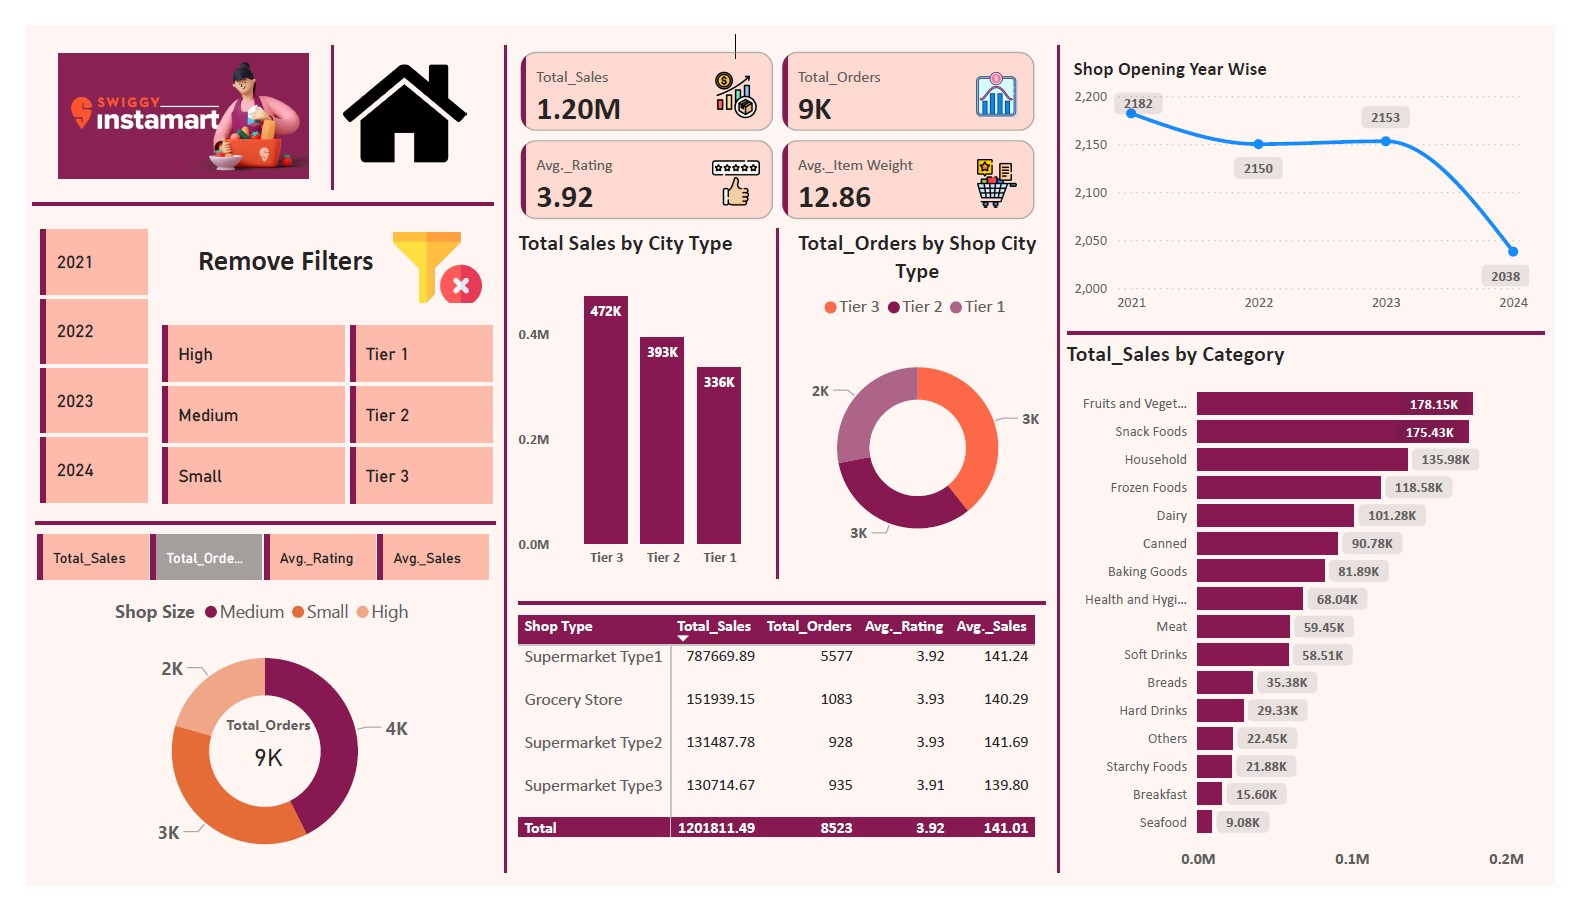

What the dashboard file says about the page in this screenshot:
{"tool":"powerbi","page":{"name":"Page 1","canvas":[1280,720],"ordinal":0},"visuals":[{"type":"cardVisual","fields":{"Data":["Grocery Shop.Total_Sales","Grocery Shop.Orders","Grocery Shop.Avg._Rating","Grocery Shop.Avg._Item Weight"]},"box":[408.5,16.5,440.6,150.8],"z":0},{"type":"donutChart","fields":{"Y":["Grocery Shop.Total_Orders"],"Category":["Grocery Shop.Shop Size"]},"box":[4.4,470,391,243.8],"z":1000},{"type":"cardVisual","fields":{"Data":["Grocery Shop.Total_Orders"]},"box":[148.1,559.5,109.1,78],"z":2000},{"type":"clusteredColumnChart","title":"Total Sales by City Type","fields":{"Category":["Grocery Shop.Shop City Type"],"Y":["Grocery Shop.Total_Sales"]},"box":[407,170.2,217.2,292.6],"z":3000},{"type":"lineChart","title":"Shop Opening Year Wise","fields":{"Category":["Grocery Shop.Shop Opening Year"],"Y":["CountNonNull(Grocery Shop.Shop Code)"]},"box":[871.6,25.7,391,223.4],"z":4000},{"type":"clusteredBarChart","fields":{"Y":["Grocery Shop.Total_Sales"],"Category":["Grocery Shop.Category"]},"box":[866.3,263.3,408.8,451.3],"z":5000},{"type":"pivotTable","fields":{"Rows":["Grocery Shop.Shop Type"],"Values":["Grocery Shop.Total_Sales","Grocery Shop.Total_Orders","Grocery Shop.Avg._Rating","Grocery Shop.Avg._Sales"]},"box":[407,489.5,451.3,218.1],"z":6000},{"type":"shape","box":[386.1,16.5,30.2,692.5],"z":7000},{"type":"shape","box":[4.9,129.4,386.1,40.9],"z":8000},{"type":"shape","box":[849.1,16.5,30.2,692.5],"z":9000},{"type":"advancedSlicerVisual","fields":{"Values":["Metrics.Metrics"]},"box":[4.4,406.1,391,83.3],"z":10000},{"type":"donutChart","fields":{"Y":["Grocery Shop.Total_Orders"],"Category":["Grocery Shop.Shop City Type"]},"box":[633.6,170,224.5,292.7],"z":11000},{"type":"shape","box":[412.3,462.9,440.7,40.8],"z":12000},{"type":"shape","box":[613.6,170.2,30.1,292.6],"z":13000},{"type":"advancedSlicerVisual","fields":{"Values":["Grocery Shop.Shop Opening Year"]},"box":[7.3,145.5,99,281.3],"z":14000},{"type":"advancedSlicerVisual","fields":{"Values":["Grocery Shop.Shop Size"]},"box":[108.8,226.2,162.6,200.5],"z":15000},{"type":"advancedSlicerVisual","fields":{"Values":["Grocery Shop.Shop City Type"]},"box":[266,226.1,129.5,200.4],"z":16000},{"type":"shape","box":[7.1,396.4,385.7,40.8],"z":17000},{"type":"shape","box":[871.6,236.7,399,40.8],"z":18000},{"type":"image","box":[256.8,16.5,119.6,113.8],"z":19000},{"type":"shape","box":[241.2,16.5,30.2,120.6],"z":20000},{"type":"image","box":[22.2,16.8,219,117],"z":21000},{"type":"image","box":[302,167.5,84.4,69.7],"z":22000},{"type":"textbox","box":[132.1,177.3,170,48.9],"z":23000}]}

Visuals, with their boxes in screenshot pixels (x1, y1, x2, y2), scaled from the page's 1280x720 canvas onto the 1581x907 screenshot:
cardVisual - Grocery Shop.Total_Sales x Grocery Shop.Orders: [505,21,1049,211]
donutChart - Grocery Shop.Total_Orders x Grocery Shop.Shop Size: [5,592,488,899]
cardVisual - Grocery Shop.Total_Orders: [183,705,318,803]
"Total Sales by City Type" clusteredColumnChart: [503,214,771,583]
"Shop Opening Year Wise" lineChart: [1077,32,1560,314]
clusteredBarChart - Grocery Shop.Total_Sales x Grocery Shop.Category: [1070,332,1575,900]
pivotTable - Grocery Shop.Shop Type x Grocery Shop.Total_Sales: [503,617,1060,891]
shape: [477,21,514,893]
shape: [6,163,483,215]
shape: [1049,21,1086,893]
advancedSlicerVisual - Metrics.Metrics: [5,512,488,617]
donutChart - Grocery Shop.Total_Orders x Grocery Shop.Shop City Type: [783,214,1060,583]
shape: [509,583,1054,635]
shape: [758,214,795,583]
advancedSlicerVisual - Grocery Shop.Shop Opening Year: [9,183,131,538]
advancedSlicerVisual - Grocery Shop.Shop Size: [134,285,335,538]
advancedSlicerVisual - Grocery Shop.Shop City Type: [329,285,489,537]
shape: [9,499,485,551]
shape: [1077,298,1569,350]
image: [317,21,465,164]
shape: [298,21,335,173]
image: [27,21,298,169]
image: [373,211,477,299]
textbox: [163,223,373,285]
